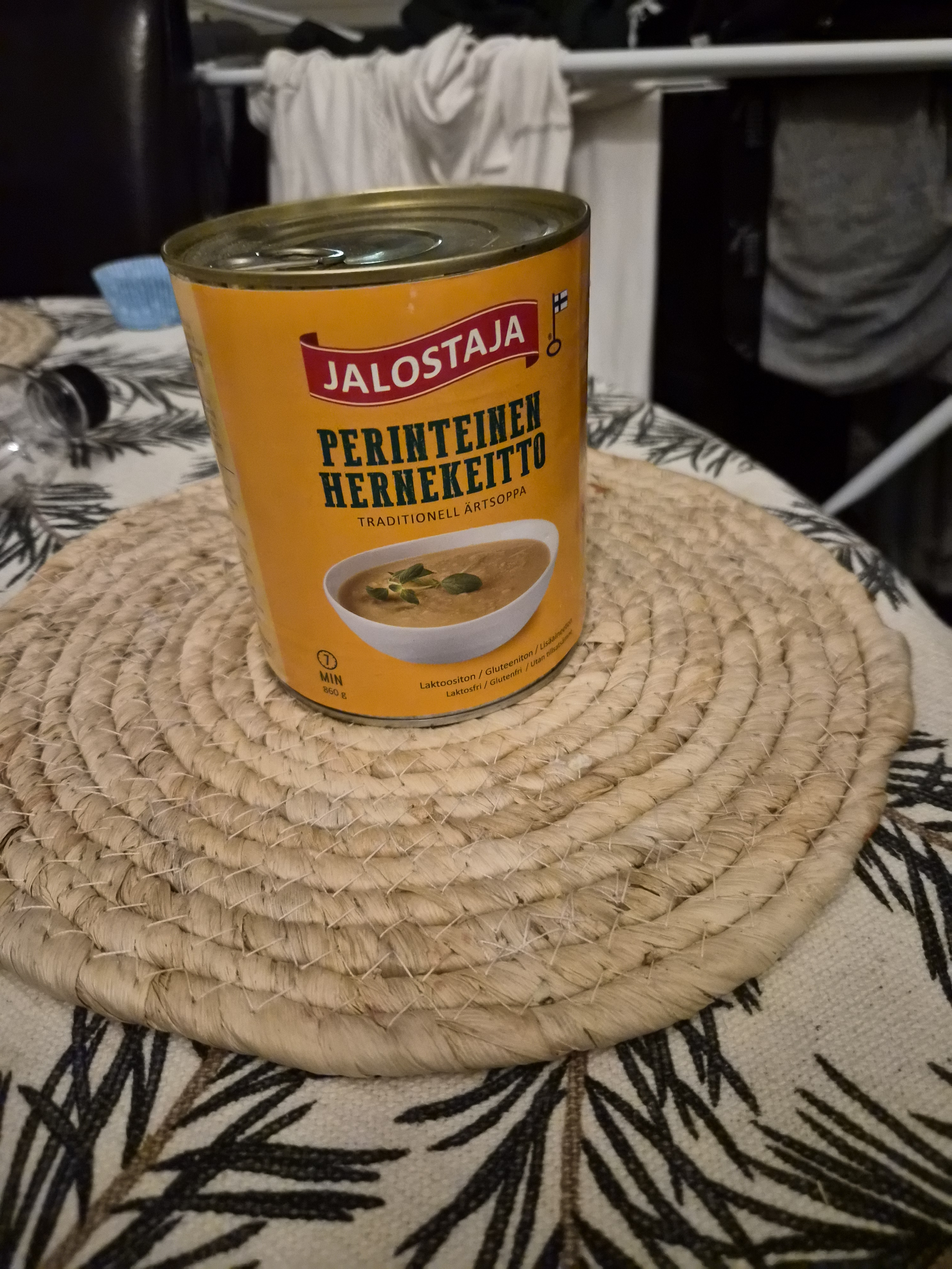Konservburk: (153, 174, 588, 729)
